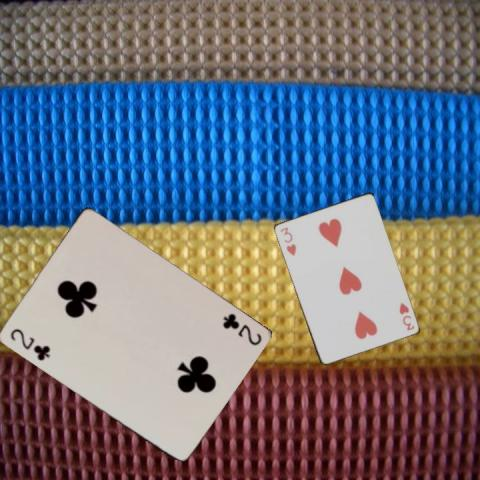2c: (7, 325, 51, 363), (219, 310, 262, 347)
3h: (278, 224, 298, 257), (396, 299, 415, 332)
